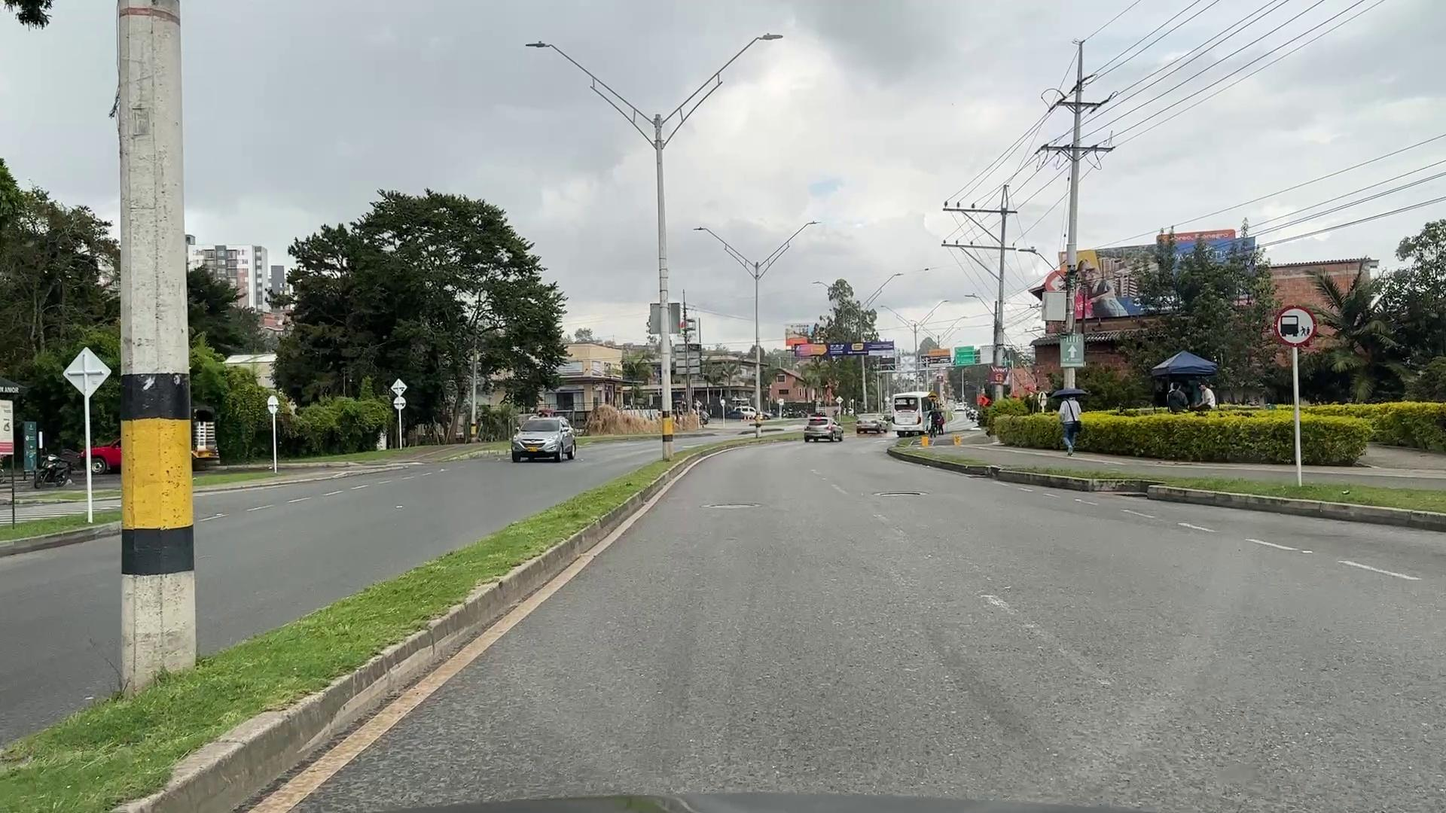registro: (710, 504, 755, 508), (880, 493, 921, 495)
rejilla: (1113, 494, 1148, 498), (967, 477, 992, 478)
